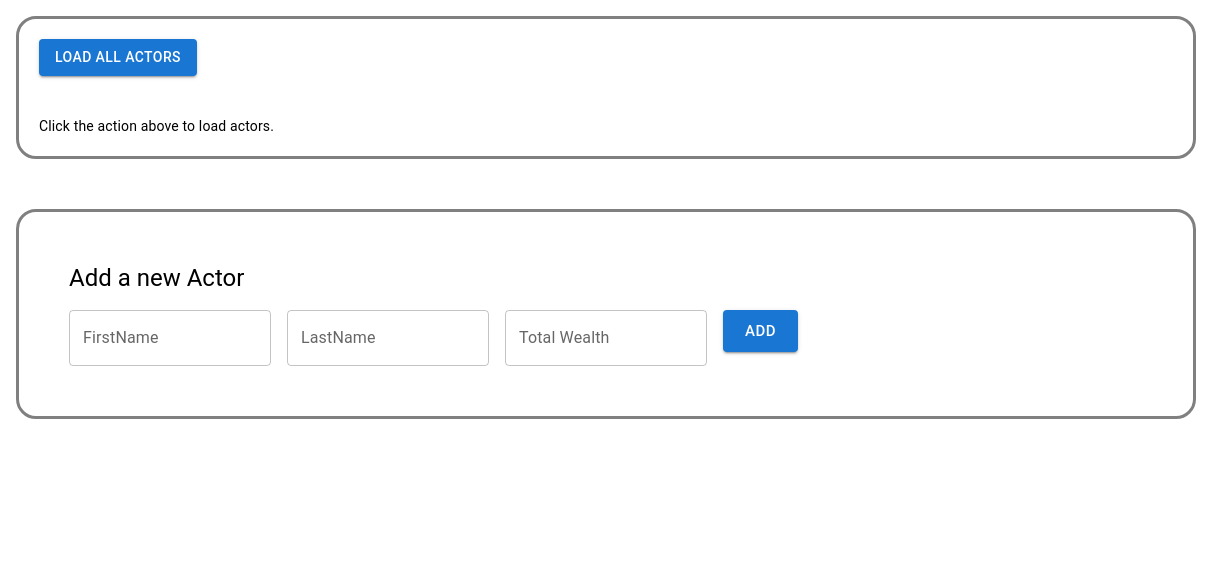
Test case: Actor Page tests › Load All actors button should load all actors on page
The image size is (1213, 570).
Click the button "Load All Actors" at (118, 57), box [39, 39, 197, 76]
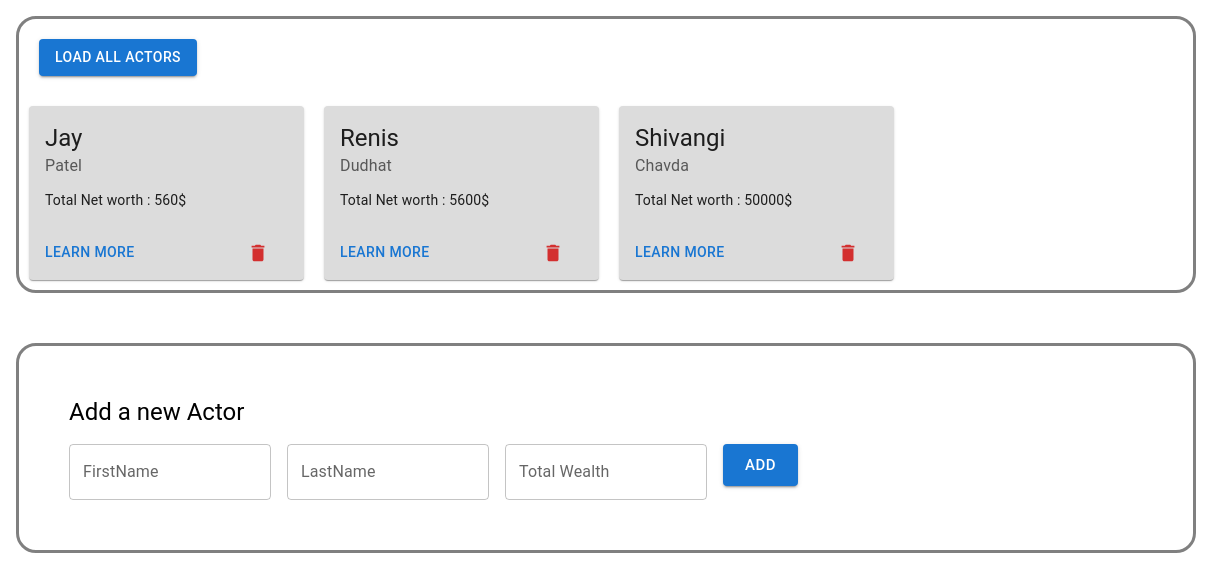
Check: the text "Jay" is shown, box [45, 124, 82, 152]
Check: the text "Renis" is shown, box [340, 124, 399, 152]
Check: the text "Shivangi" is shown, box [635, 124, 725, 152]
